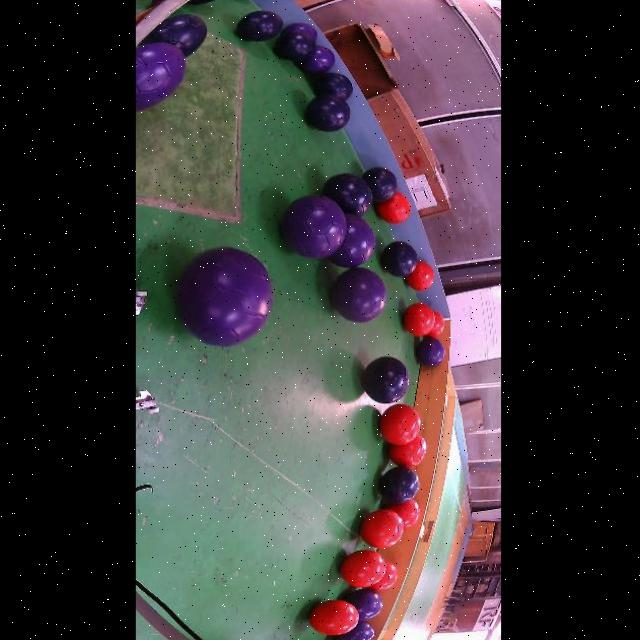B: (140, 14, 206, 57), (361, 357, 410, 403), (322, 173, 372, 216), (304, 94, 350, 132), (379, 466, 420, 504), (237, 10, 283, 42), (380, 242, 417, 277), (274, 31, 316, 61), (363, 167, 397, 202), (313, 73, 353, 101), (187, 0, 216, 5)
P: (177, 247, 273, 347), (281, 195, 346, 259), (135, 42, 185, 111), (330, 267, 387, 323), (328, 214, 375, 268), (344, 588, 383, 621), (297, 46, 335, 74), (416, 337, 445, 367), (336, 621, 374, 640), (280, 23, 317, 41)
R: (360, 509, 405, 549), (309, 600, 359, 635), (340, 550, 386, 588), (380, 404, 421, 445), (389, 436, 426, 468), (403, 302, 435, 337), (377, 192, 411, 224), (386, 499, 420, 530), (368, 562, 397, 592), (406, 261, 434, 291), (426, 311, 445, 338)
